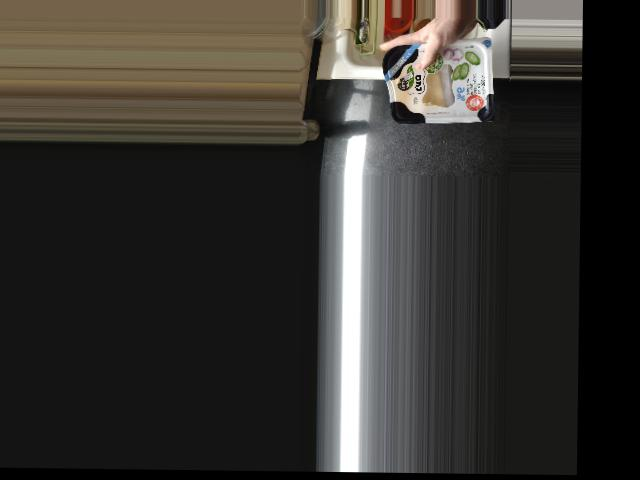cheese: (381, 36, 490, 123)
